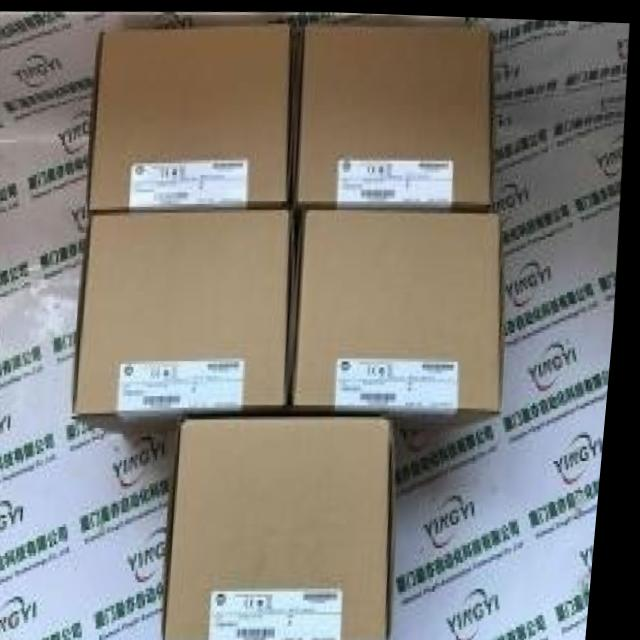box: (175, 412, 403, 640), (78, 204, 295, 439), (299, 206, 504, 438), (91, 23, 302, 211), (300, 24, 495, 203)
